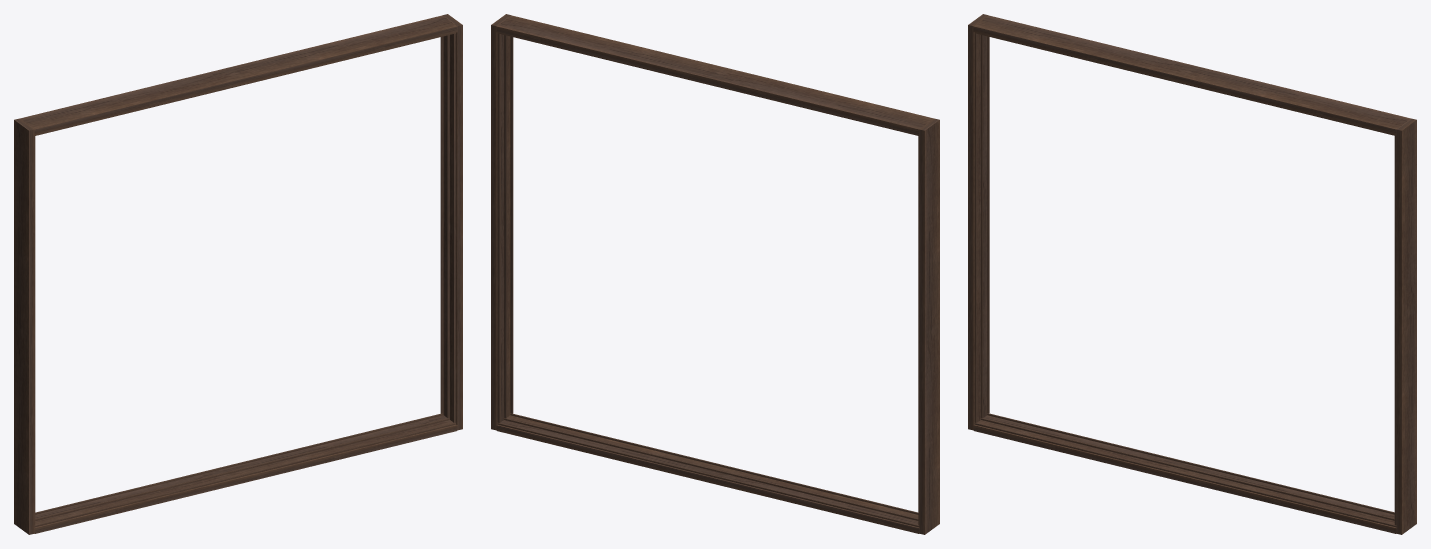
The model's file is windowflame01.fbx.
3 renders of one model, left to right at view 1: azimuth 30°, elevation 25°; view 2: azimuth 150°, elevation 25°; view 3: azimuth 330°, elevation 25°, orthographic.
Parts seen in each view (by area): view 1: windowflame01; view 2: windowflame01; view 3: windowflame01.
Part boxes in pixels (x1,y1,x2,y2): windowflame01: [14, 14, 462, 534]; windowflame01: [491, 14, 939, 534]; windowflame01: [968, 14, 1416, 534].
Size of the model in its own units: 164 by 146 by 9.83.
